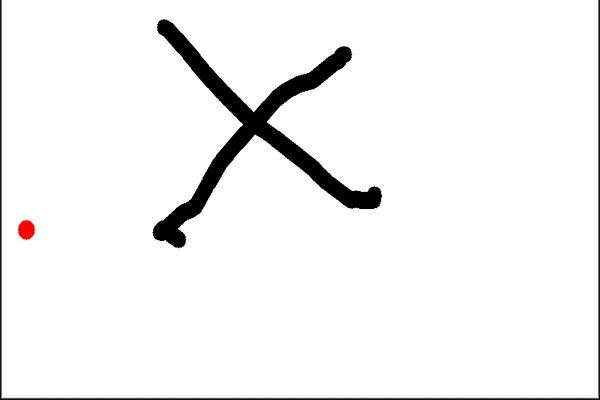Z: (146, 17, 396, 260)
